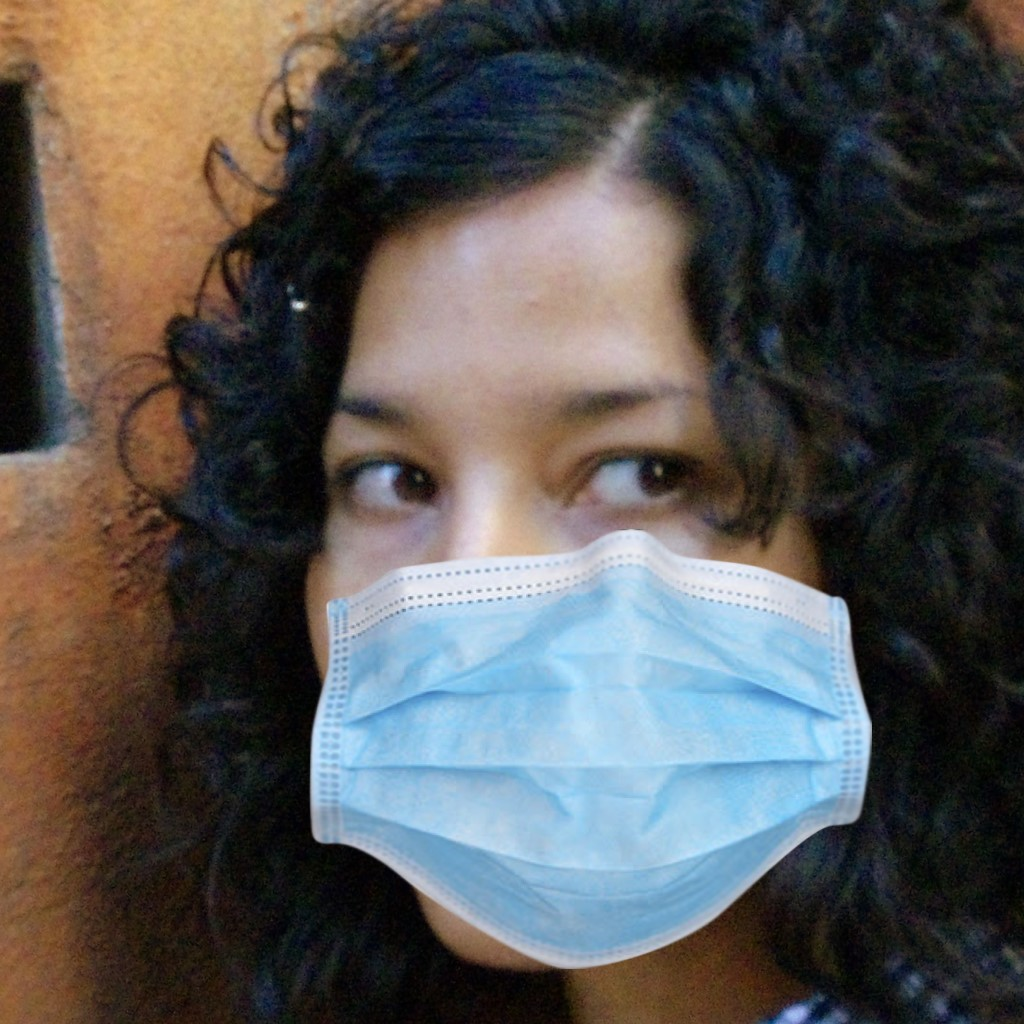con_mascara: (296, 186, 832, 961)
